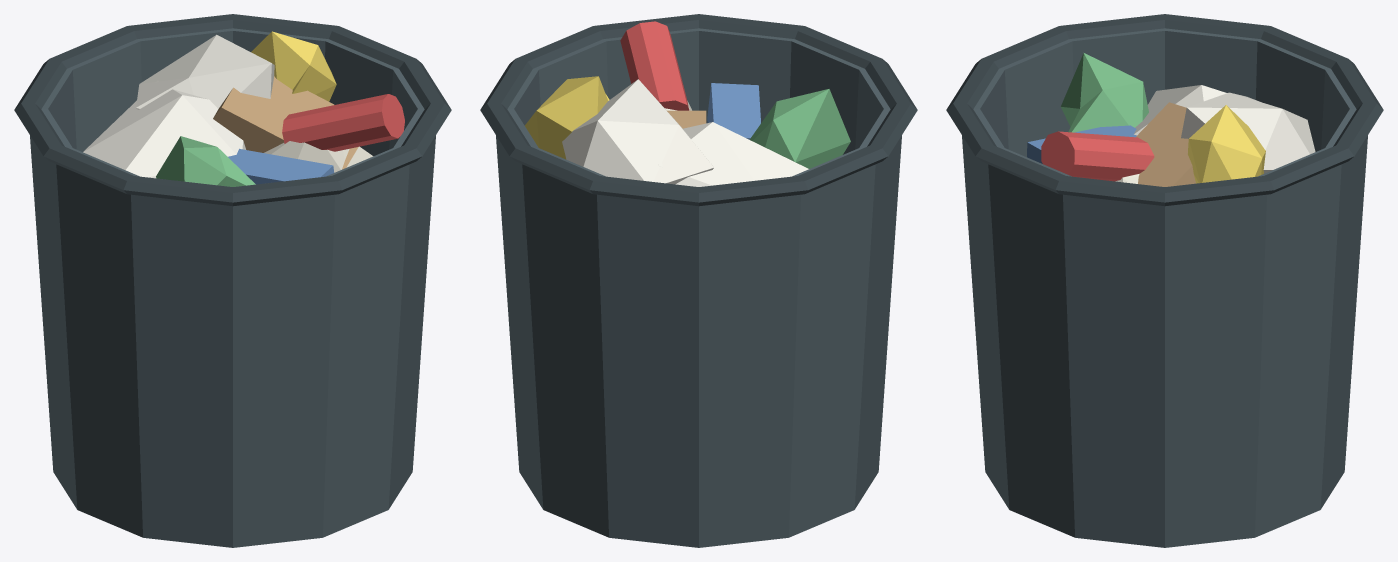
File: Bin_Full.fbx
3 views of the same model, side by side, from view 1: azimuth 30°, elevation 25°; view 2: azimuth 150°, elevation 25°; view 3: azimuth 270°, elevation 25° (orthographic).
Parts seen in each view (by area): view 1: Bin_Full, Bin_Full_Rim, Trash_Paper1, Trash_Paper3, Trash_Can1, Trash_Card1, Trash_Yellow, Trash_Green1, Trash_Blue, Trash_Paper2; view 2: Bin_Full, Bin_Full_Rim, Trash_Paper3, Trash_Green1, Trash_Paper1, Trash_Can1, Trash_Yellow, Trash_Blue, Trash_Card1; view 3: Bin_Full, Bin_Full_Rim, Trash_Green1, Trash_Paper3, Trash_Can1, Trash_Yellow, Trash_Card1, Trash_Paper1, Trash_Blue.
Boxes of the visible parts, bbox=[...] form: Bin_Full: bbox=[30, 28, 435, 547]; Bin_Full_Rim: bbox=[14, 14, 451, 206]; Trash_Paper1: bbox=[83, 80, 245, 178]; Trash_Paper3: bbox=[136, 34, 274, 109]; Trash_Can1: bbox=[282, 94, 404, 151]; Trash_Card1: bbox=[213, 76, 358, 169]; Trash_Yellow: bbox=[251, 31, 336, 101]; Trash_Green1: bbox=[156, 136, 255, 186]; Trash_Blue: bbox=[228, 148, 334, 184]; Trash_Paper2: bbox=[264, 141, 373, 172]; Bin_Full: bbox=[496, 28, 901, 547]; Bin_Full_Rim: bbox=[480, 14, 917, 206]; Trash_Paper3: bbox=[562, 79, 713, 184]; Trash_Green1: bbox=[750, 89, 850, 168]; Trash_Paper1: bbox=[658, 122, 808, 186]; Trash_Can1: bbox=[620, 21, 689, 110]; Trash_Yellow: bbox=[525, 76, 609, 159]; Trash_Blue: bbox=[707, 83, 760, 139]; Trash_Card1: bbox=[667, 110, 706, 128]; Bin_Full: bbox=[962, 28, 1367, 547]; Bin_Full_Rim: bbox=[946, 14, 1383, 206]; Trash_Green1: bbox=[1060, 53, 1148, 132]; Trash_Paper3: bbox=[1181, 92, 1315, 173]; Trash_Can1: bbox=[1041, 131, 1154, 181]; Trash_Yellow: bbox=[1188, 105, 1265, 183]; Trash_Card1: bbox=[1136, 102, 1195, 186]; Trash_Paper1: bbox=[1134, 85, 1226, 135]; Trash_Blue: bbox=[1027, 125, 1136, 163].
Size of the model in its own units: 1.1 by 1.11 by 1.1.
